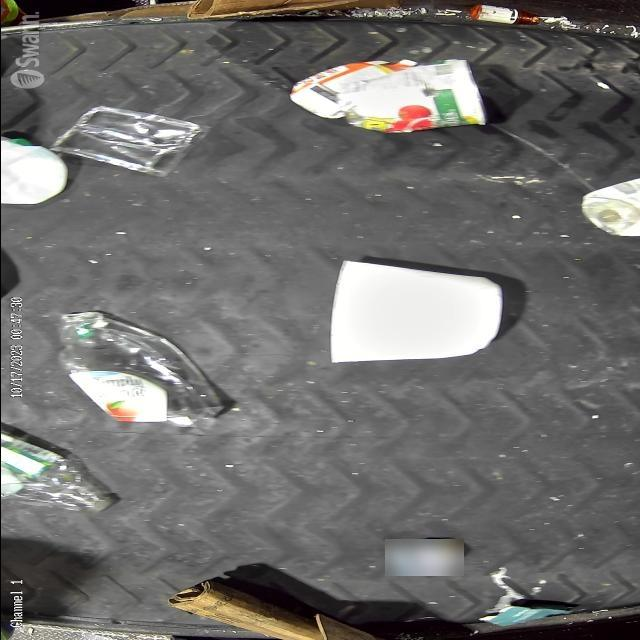milk_jug: (57, 311, 222, 421)
plastic_bottle: (0, 429, 112, 514)
